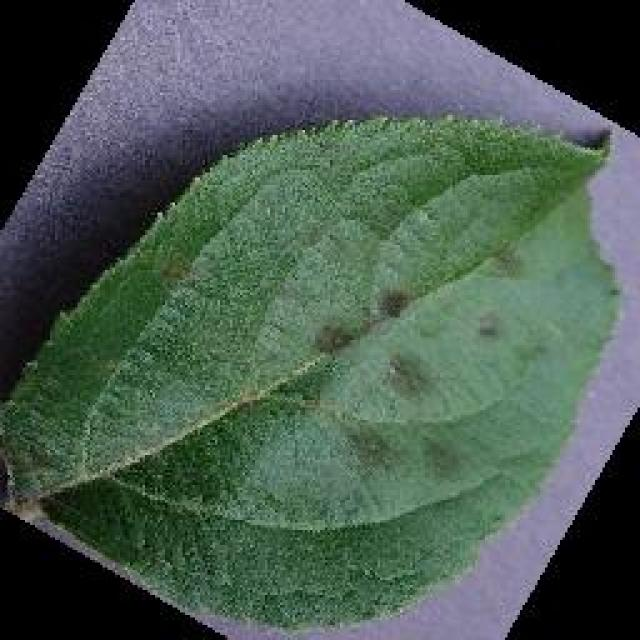apple scab disease: (0, 110, 625, 638)
